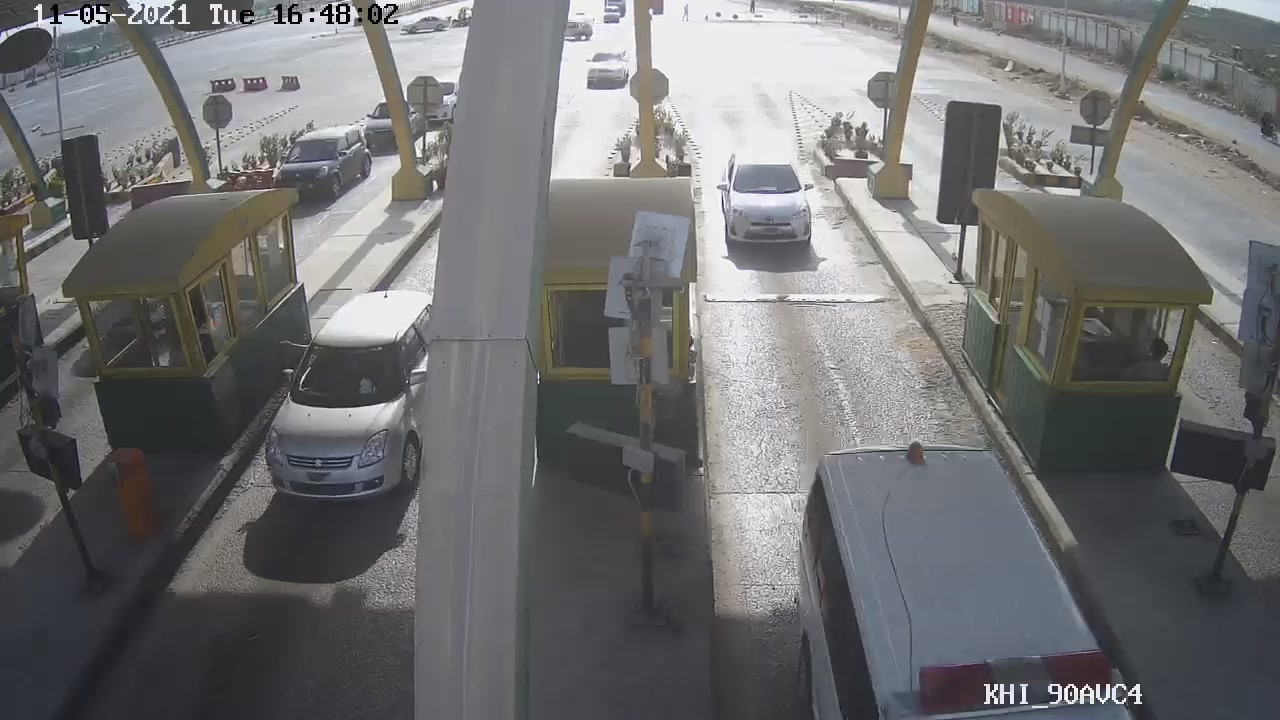F1: (718, 148, 825, 261)
